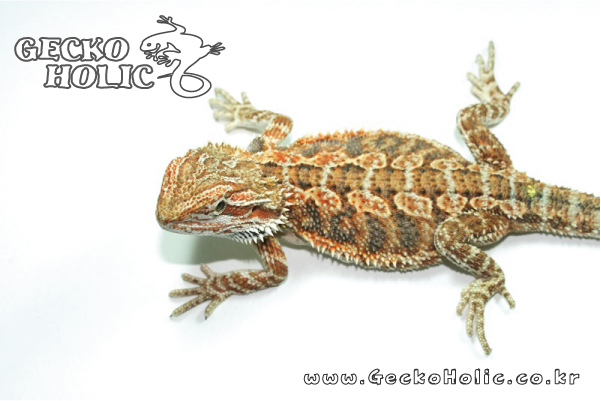bearded: (156, 38, 601, 357)
